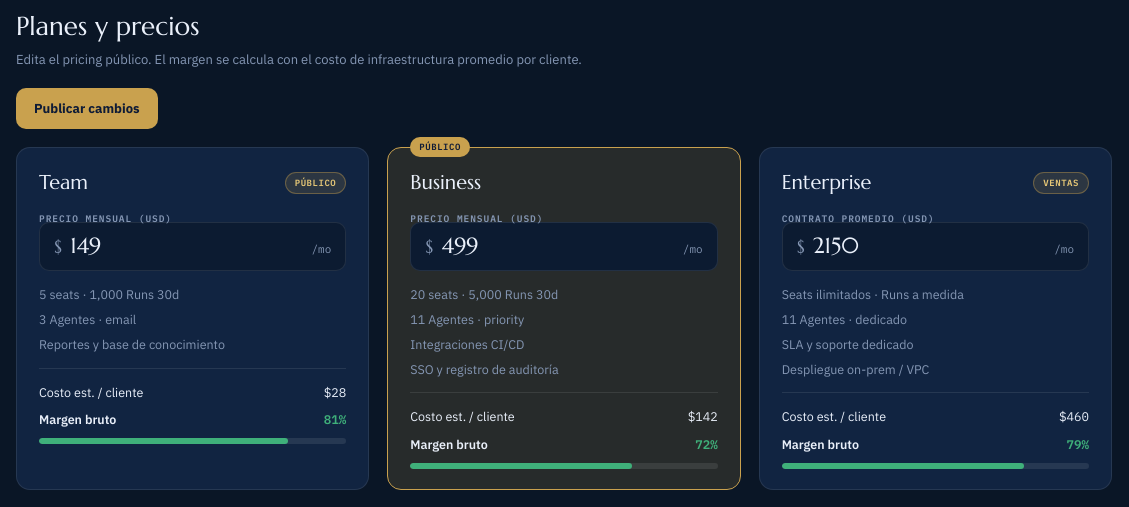
Test: Planes — plans & live-margin pricing › only the edited plan margin changes (others stay put)
Replace the text in the number field named "Precio del plan Team" with "56": [187, 246] box [70, 234, 304, 258]
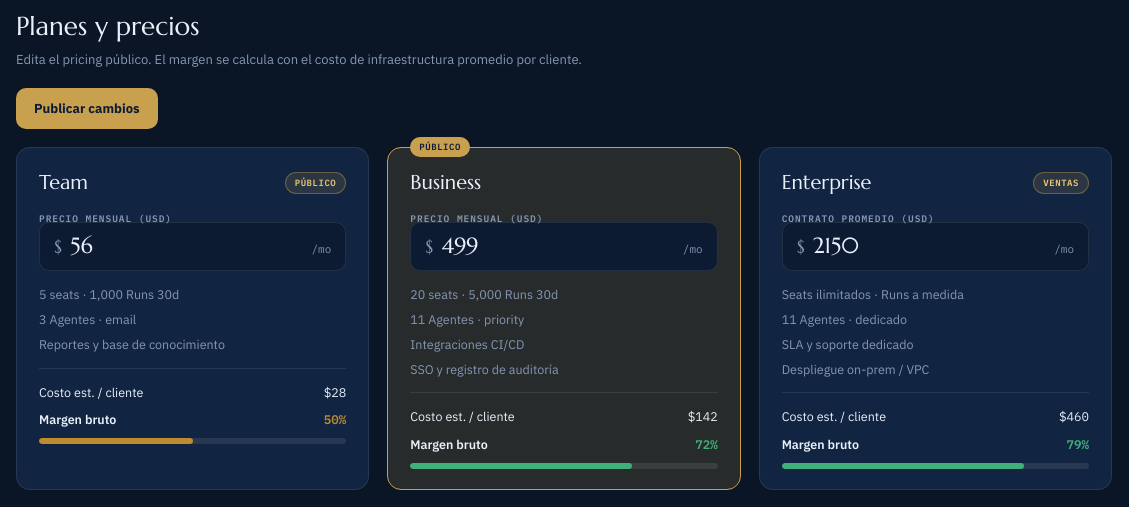
expect the elements with test id "margin-pct" read "50%", "72%", "79%", in this order: met, box [324, 410, 346, 429]; [695, 435, 718, 454]; [1066, 435, 1089, 454]
